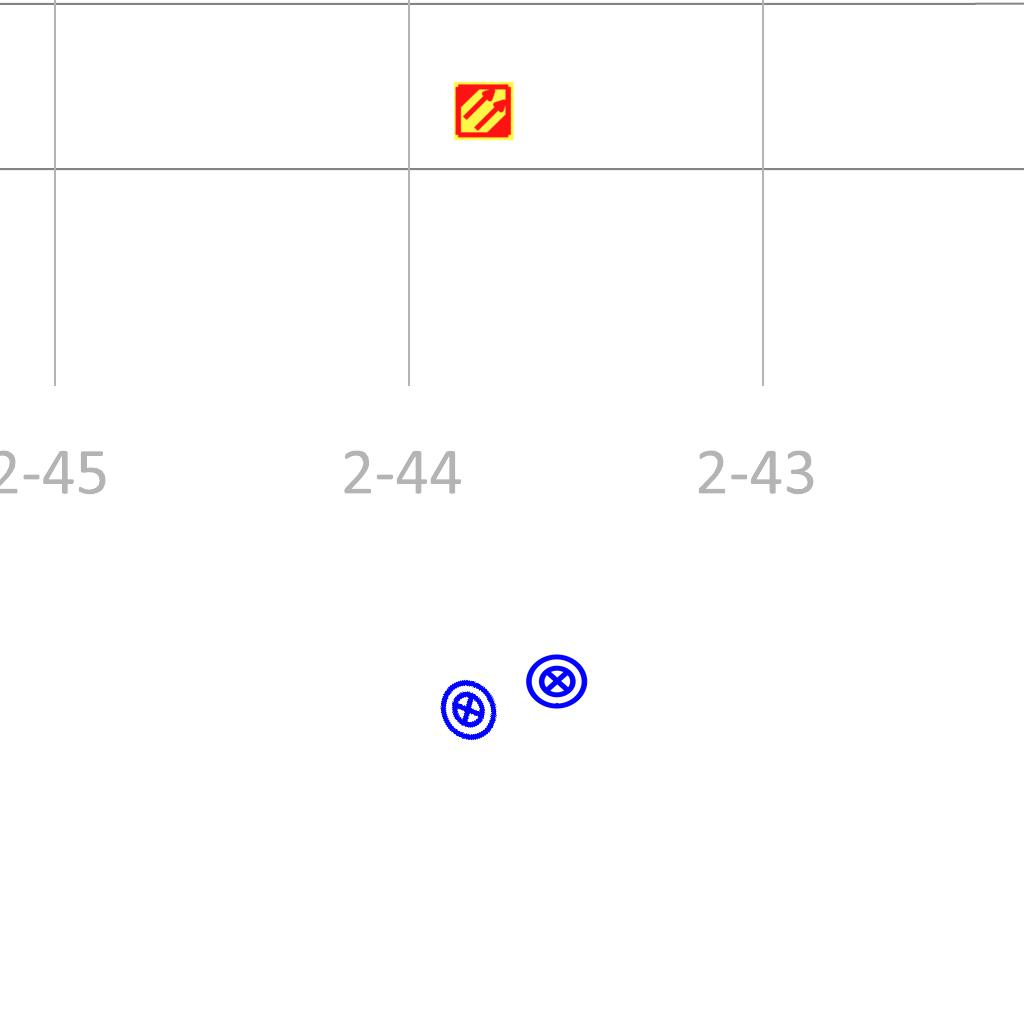ASR_Ansaugrauchmelder: (453, 80, 515, 142)
Taster_beleuchtet: (423, 665, 513, 755), (524, 648, 590, 714)
